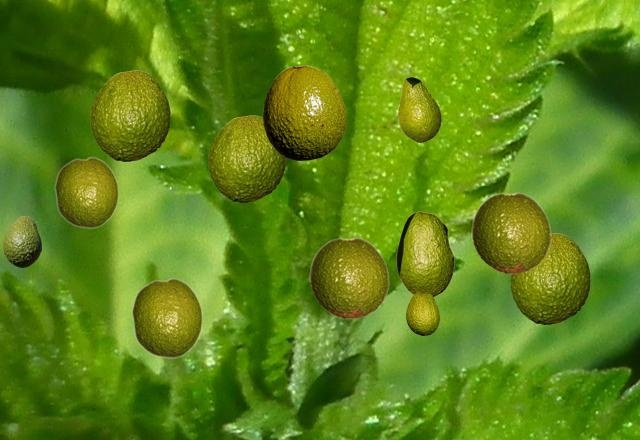avocado: (263, 65, 345, 159), (90, 70, 169, 160), (510, 233, 589, 323), (208, 115, 284, 201), (309, 237, 389, 318), (471, 192, 551, 273), (131, 277, 202, 358), (396, 211, 453, 297), (54, 156, 118, 228), (398, 77, 440, 141), (3, 216, 40, 266), (406, 292, 438, 334)
